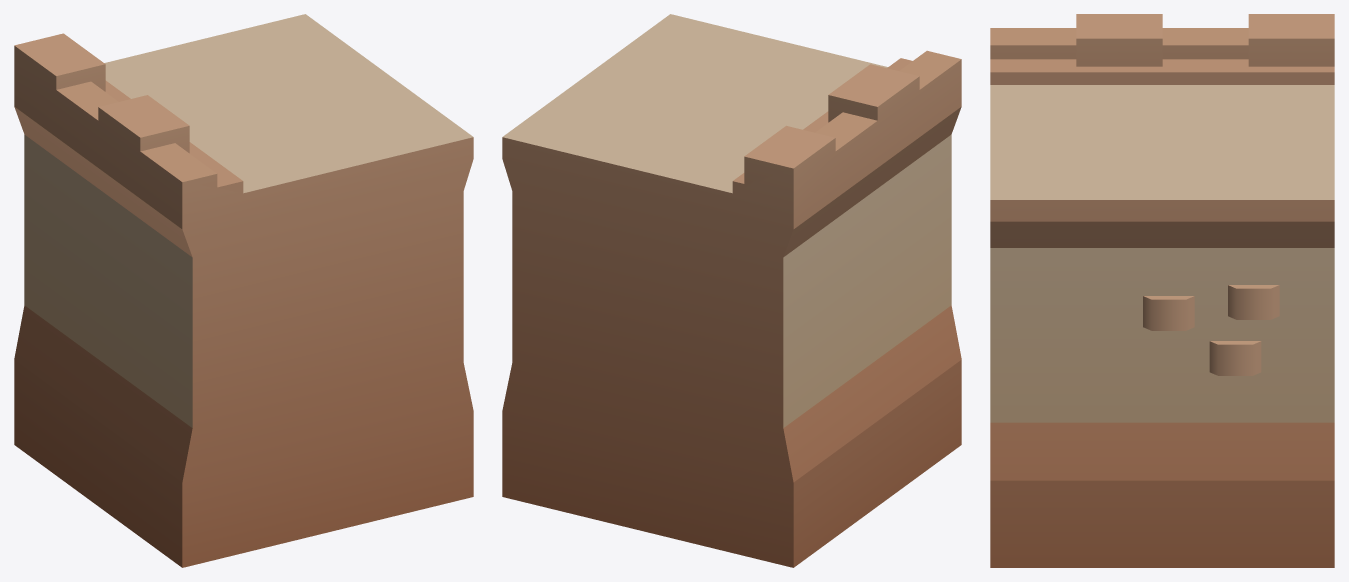
File: wall-half.glb
3 renders of one model, left to right at view 1: azimuth 30°, elevation 25°; view 2: azimuth 150°, elevation 25°; view 3: azimuth 270°, elevation 25°, orthographic. The views are drawn at different scales.
Parts seen in each view (by area): view 1: wall-half; view 2: wall-half; view 3: wall-half.
Part boxes in pixels (<box>): wall-half: <box>14,14,473,567</box>; wall-half: <box>502,14,961,567</box>; wall-half: <box>990,14,1334,567</box>.
Bounding box in the file's own units: 1 × 1.31 × 1.
